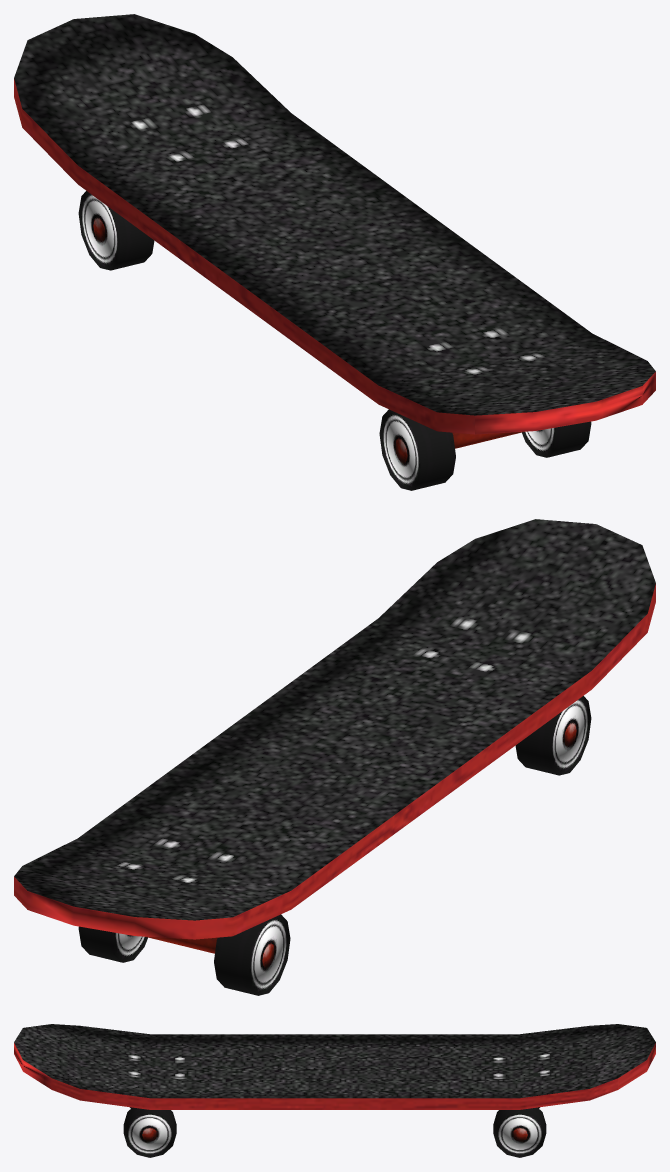
The model's file is Cart6.fbx.
3 renders of one model, top to bottom at view 1: azimuth 30°, elevation 25°; view 2: azimuth 150°, elevation 25°; view 3: azimuth 270°, elevation 25°, orthographic. The views are drawn at different scales.
Visible parts, largest first — view 1: Cart6; view 2: Cart6; view 3: Cart6.
Part boxes in pixels (bbox=[...]): Cart6: bbox=[14, 14, 655, 490]; Cart6: bbox=[14, 519, 655, 995]; Cart6: bbox=[14, 1024, 655, 1157].
Bounding box in the file's own units: 68.12 × 44.8 × 288.
